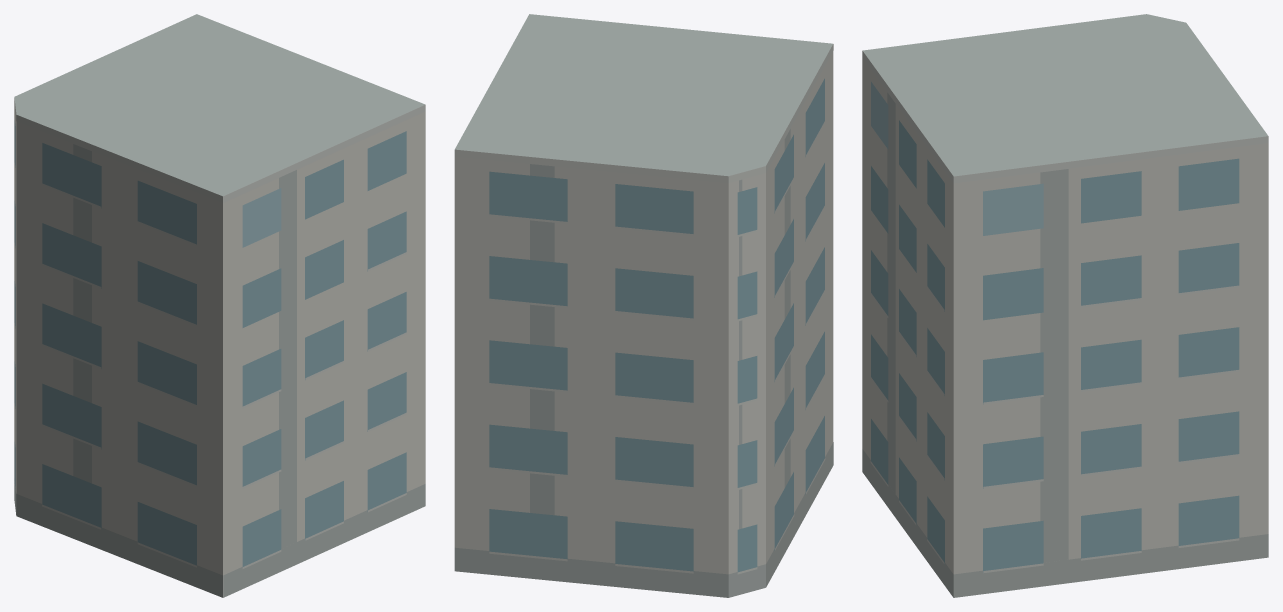
File: survey-upis-32977511.glb
3 renders of one model, left to right at view 1: azimuth 30°, elevation 25°; view 2: azimuth 150°, elevation 25°; view 3: azimuth 270°, elevation 25°, orthographic. The views are drawn at different scales.
Visible parts, largest first — view 1: survey-upis-32977511.tmp; view 2: survey-upis-32977511.tmp; view 3: survey-upis-32977511.tmp.
Part boxes in pixels (<box>): survey-upis-32977511.tmp: <box>14,14,425,597</box>; survey-upis-32977511.tmp: <box>454,14,833,597</box>; survey-upis-32977511.tmp: <box>862,14,1268,597</box>.
Size of the model in its own units: 12 by 14.5 by 12.68.
